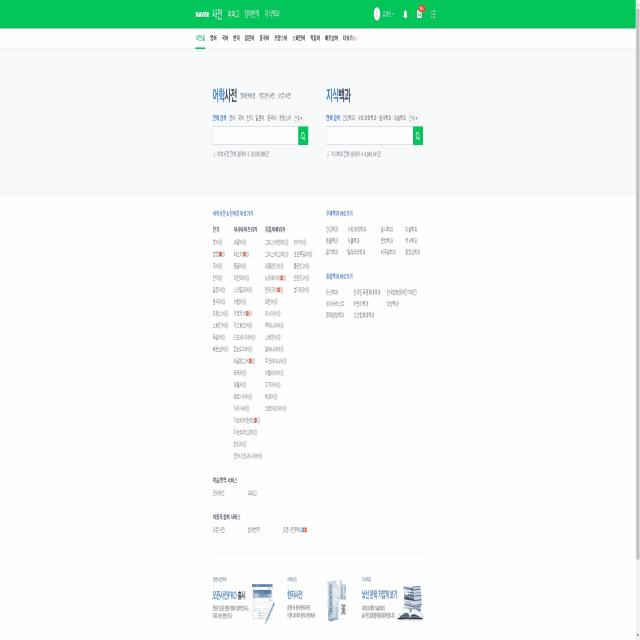menu-bar: (371, 4, 443, 26)
search: (325, 122, 425, 148), (212, 122, 310, 148)
tab-bar: (194, 29, 360, 48), (191, 5, 285, 22)
